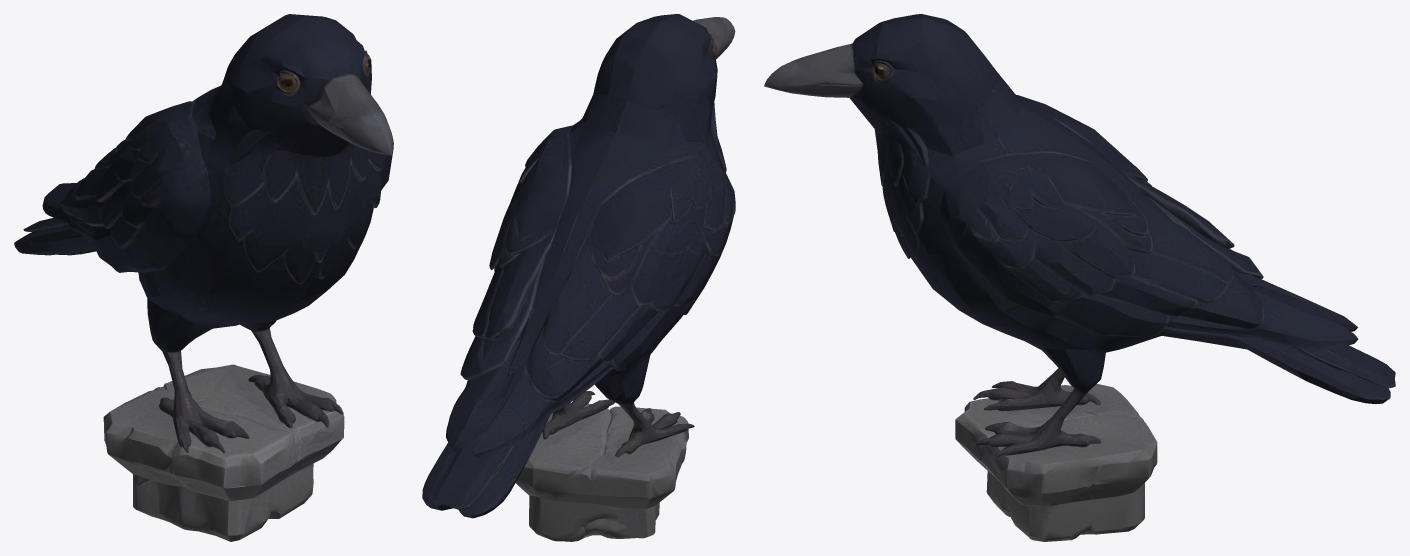
The model's file is ave_corvo.glb.
The picture shows the model from 3 angles, left to right: view 1: azimuth 30°, elevation 25°; view 2: azimuth 150°, elevation 25°; view 3: azimuth 270°, elevation 25°; orthographic projection. The views are drawn at different scales.
Parts seen in each view (by area): view 1: output_unwrapped; view 2: output_unwrapped; view 3: output_unwrapped.
Part boxes in pixels (box(x1,y1,x2,y2)): output_unwrapped: box(14, 14, 393, 541); output_unwrapped: box(422, 14, 735, 541); output_unwrapped: box(764, 14, 1395, 541).
Size of the model in its own units: 0.7836 by 1.65 by 1.9.
1 material, 1 textured.
